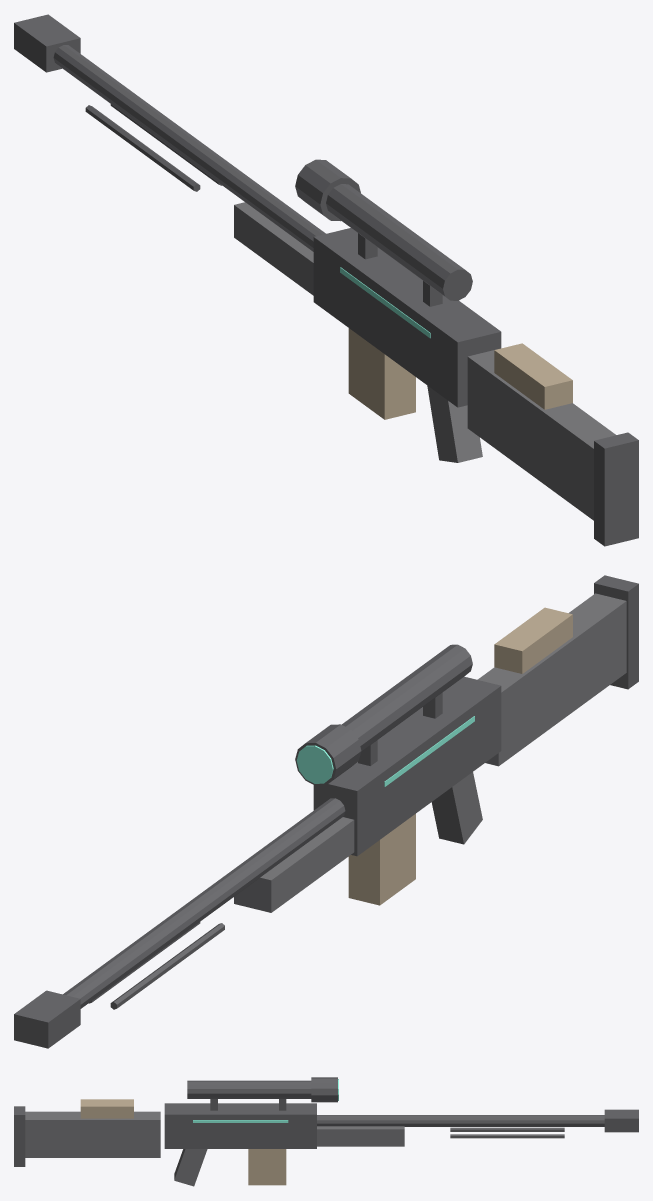
The model's file is Weapon_Sniper.fbx.
3 renders of one model, top to bottom at view 1: azimuth 30°, elevation 25°; view 2: azimuth 150°, elevation 25°; view 3: azimuth 270°, elevation 25°, orthographic. The views are drawn at different scales.
Parts seen in each view (by area): view 1: Receiver, StockMesh, BarrelTube, ScopeTube, ButtPad, Mag, Chassis, CheekRest, GripMesh, MuzzleBrake, ScopeFront, BipodL; view 2: Receiver, StockMesh, BarrelTube, ScopeTube, Chassis, Mag, CheekRest, MuzzleBrake, GripMesh, ButtPad, ScopeFront, BipodL (+1 smaller); view 3: Receiver, StockMesh, BarrelTube, ScopeTube, Chassis, Mag, CheekRest, GripMesh, MuzzleBrake, ButtPad, ScopeFront, BipodL (+2 smaller).
Boxes of the visible parts, x1,y1,x2,y2 form: Receiver: (313,228,501,407); StockMesh: (467,349,616,520); BarrelTube: (53,45,325,251); ScopeTube: (326,184,472,300); ButtPad: (594,432,638,546); Mag: (348,328,415,419); Chassis: (234,202,313,295); CheekRest: (494,343,572,409); GripMesh: (427,385,482,462); MuzzleBrake: (14,14,80,72); ScopeFront: (295,159,360,221); BipodL: (85,105,200,191); Receiver: (313,676,501,856); StockMesh: (477,593,626,766); BarrelTube: (63,798,345,1008); ScopeTube: (341,644,472,751); Chassis: (234,817,354,912); Mag: (348,814,415,905); CheekRest: (494,607,572,673); MuzzleBrake: (14,990,80,1048); GripMesh: (431,772,482,844); ButtPad: (594,575,638,689); ScopeFront: (295,724,361,785); BipodL: (110,923,224,1009); Receiver: (164,1103,316,1148); StockMesh: (25,1111,160,1157); BarrelTube: (317,1115,604,1126); ScopeTube: (187,1080,311,1098); Chassis: (317,1126,404,1146); Mag: (248,1149,286,1185); CheekRest: (80,1099,133,1118); GripMesh: (174,1149,207,1186); MuzzleBrake: (604,1109,638,1132); ButtPad: (14,1106,25,1166); ScopeFront: (311,1077,337,1102); BipodL: (450,1127,564,1131).
Bounding box in the file's own units: 0.072 × 1.64 × 0.3036.
